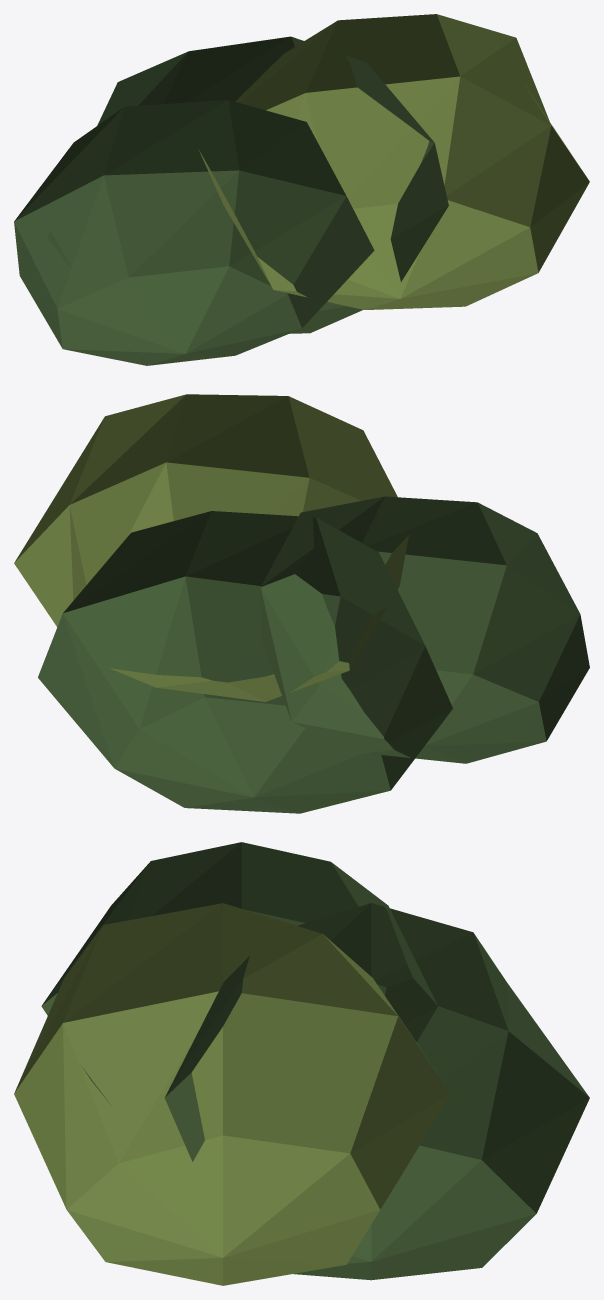
The model's file is vegetation-mountain-bush-01.glb.
3 views of the same model, one above another, from view 1: azimuth 30°, elevation 25°; view 2: azimuth 150°, elevation 25°; view 3: azimuth 270°, elevation 25° (orthographic). The views are drawn at different scales.
Visible parts, largest first — view 1: vegetation-mountain-bush-01; view 2: vegetation-mountain-bush-01; view 3: vegetation-mountain-bush-01.
Part boxes in pixels (bbox=[...]): vegetation-mountain-bush-01: bbox=[14, 14, 589, 365]; vegetation-mountain-bush-01: bbox=[14, 394, 589, 813]; vegetation-mountain-bush-01: bbox=[14, 842, 589, 1285].
Size of the model in its own units: 1.57 by 0.9208 by 1.24.
